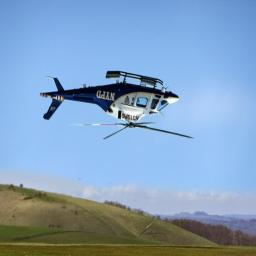helicopter: (39, 71, 195, 139)
